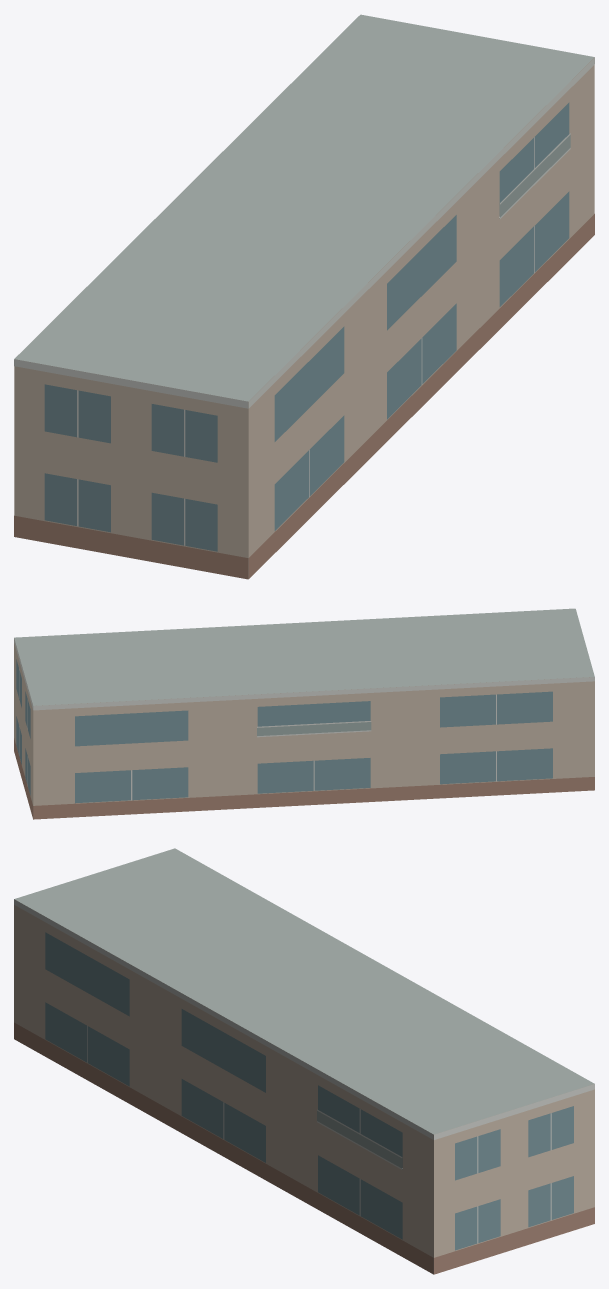
Rendered from survey-upis-32684411.glb.
3 views of the same model, one above another, from view 1: azimuth 30°, elevation 25°; view 2: azimuth 150°, elevation 25°; view 3: azimuth 270°, elevation 25° (orthographic). The views are drawn at different scales.
Visible parts, largest first — view 1: survey-upis-32684411.tmp; view 2: survey-upis-32684411.tmp; view 3: survey-upis-32684411.tmp.
Boxes of the visible parts, x1=… form: survey-upis-32684411.tmp: x1=14, y1=14, x2=594, y2=579; survey-upis-32684411.tmp: x1=14, y1=608, x2=594, y2=819; survey-upis-32684411.tmp: x1=14, y1=848, x2=594, y2=1274.
Size of the model in its own units: 26.76 by 6.1 by 22.94.
